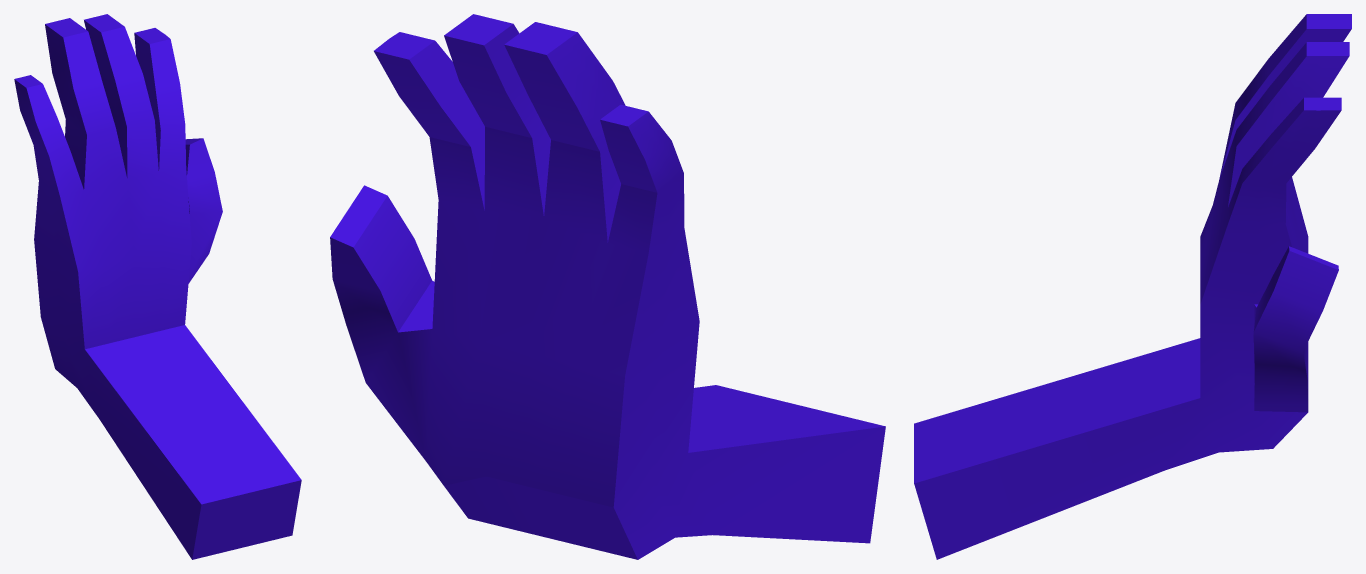
Rendered from Hand_Left.fbx.
3 renders of one model, left to right at view 1: azimuth 30°, elevation 25°; view 2: azimuth 150°, elevation 25°; view 3: azimuth 270°, elevation 25°, orthographic. The views are drawn at different scales.
Visible parts, largest first — view 1: Hand_L; view 2: Hand_L; view 3: Hand_L.
Part boxes in pixels (x1,y1,x2,y2): Hand_L: [14, 14, 301, 559]; Hand_L: [330, 14, 885, 559]; Hand_L: [914, 14, 1351, 559].
Bounding box in the file's own units: 69.32 × 150 × 119.
